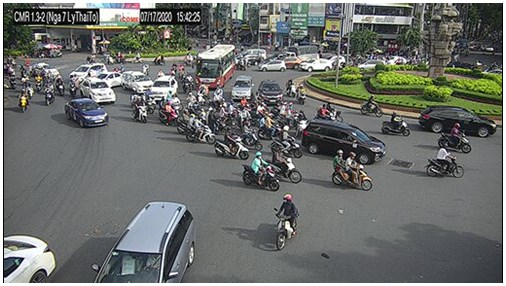xe_buyt: (196, 44, 234, 88)
xe_hoi: (92, 202, 196, 283), (303, 121, 386, 165), (418, 106, 496, 139), (4, 235, 58, 282), (65, 98, 109, 129), (79, 77, 116, 105), (121, 70, 152, 93), (68, 64, 107, 81), (257, 81, 283, 104), (151, 76, 177, 99), (231, 75, 252, 100), (299, 59, 331, 72), (259, 59, 286, 73), (240, 49, 265, 63), (97, 72, 120, 87), (357, 59, 385, 70)
xe_may: (240, 152, 280, 191), (332, 151, 371, 191), (275, 194, 300, 250), (426, 144, 464, 179), (265, 148, 301, 184), (215, 127, 250, 161), (438, 123, 472, 155), (271, 125, 302, 158), (187, 113, 216, 145), (382, 111, 410, 137), (258, 112, 284, 139), (240, 121, 261, 151), (359, 94, 383, 118), (177, 109, 197, 135), (159, 101, 179, 126), (219, 103, 237, 126), (134, 96, 148, 122), (314, 105, 336, 121), (187, 92, 200, 113), (213, 84, 226, 103), (45, 80, 54, 106), (297, 84, 307, 105), (19, 88, 28, 111), (178, 63, 189, 81), (182, 76, 193, 93), (68, 77, 77, 97), (34, 74, 43, 93), (56, 77, 65, 96), (285, 81, 295, 98), (9, 71, 18, 89), (141, 63, 151, 74)
